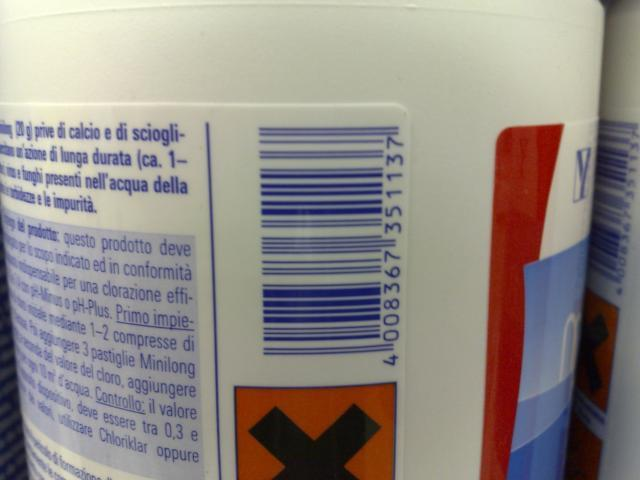Barcode: (241, 118, 410, 375)
